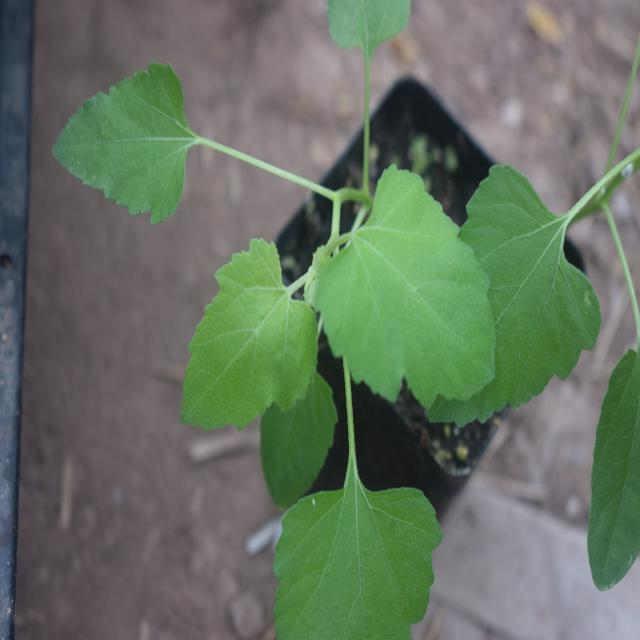cocklebur: (58, 37, 490, 582)
